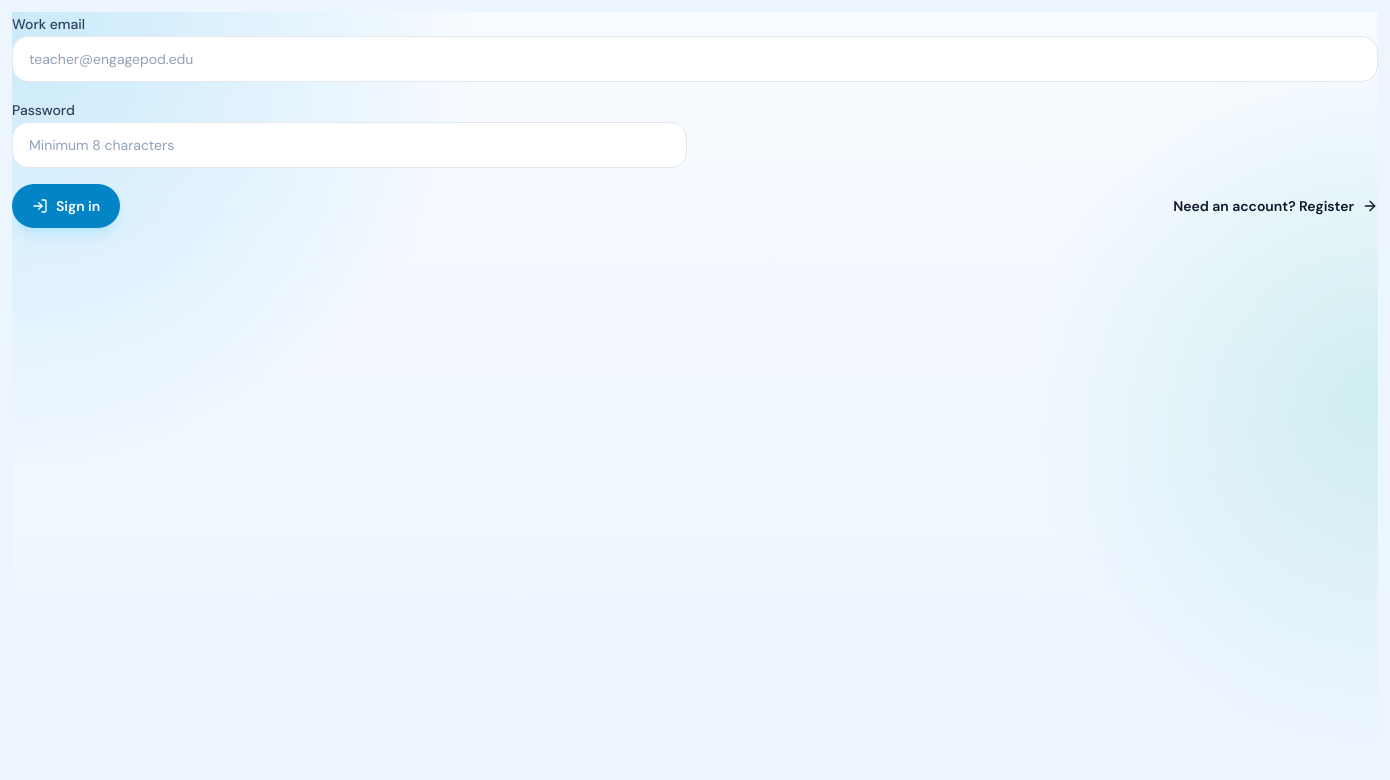
Test: ui components › handles empty credential fields safely
Click the button "Sign in".
click(66, 206)  # box [12, 184, 120, 228]
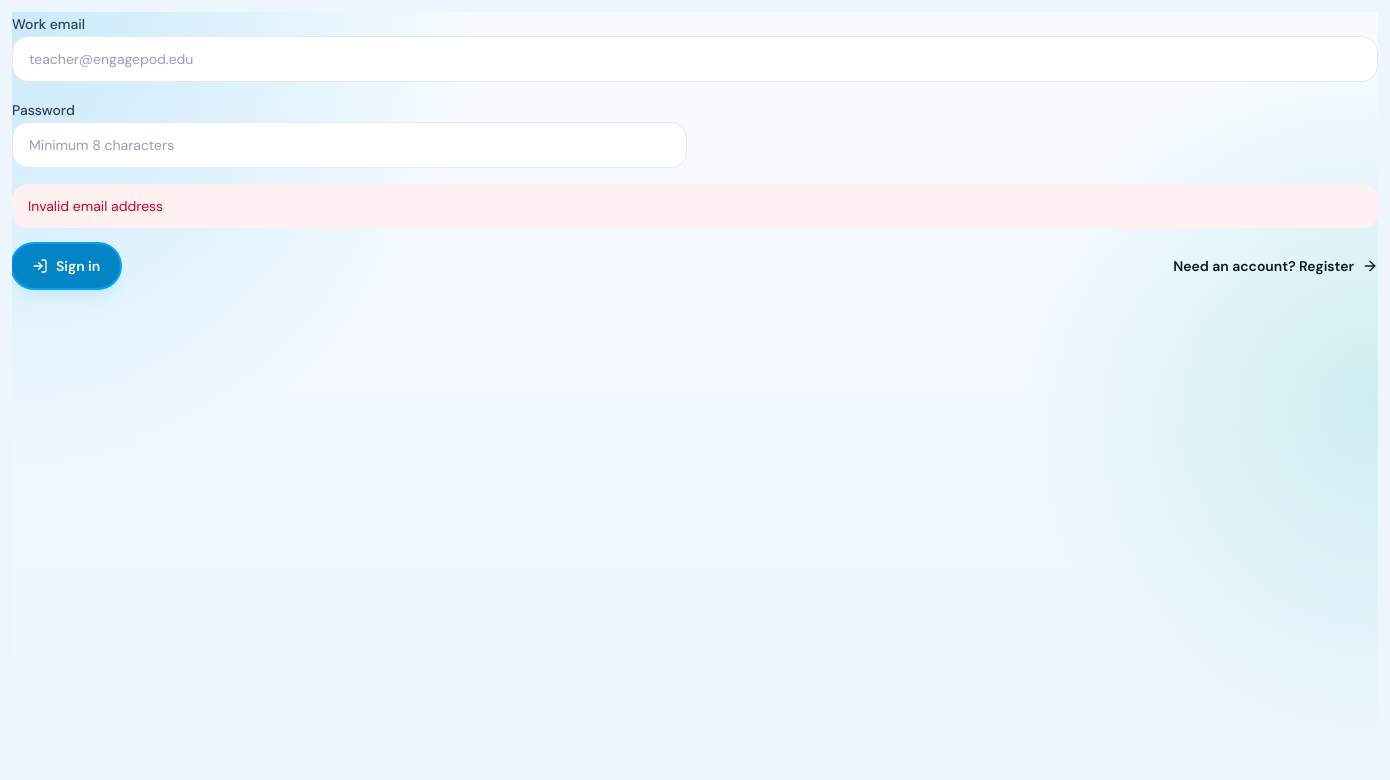
Check: the text "Invalid email address" is shown, box [12, 184, 1378, 228]
